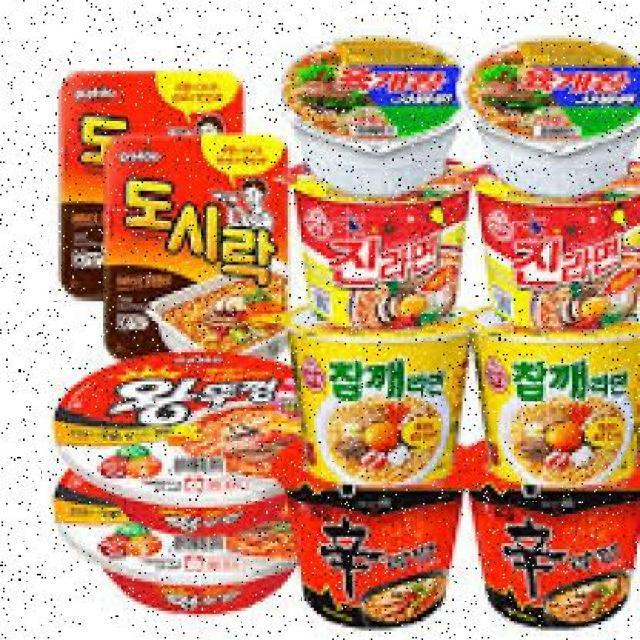Miscellaneous: (45, 349, 327, 520), (46, 464, 340, 626), (282, 441, 484, 630), (464, 438, 640, 619), (464, 300, 640, 477), (294, 312, 476, 483), (458, 154, 640, 323), (292, 161, 480, 324), (464, 38, 640, 186), (280, 42, 469, 178)
